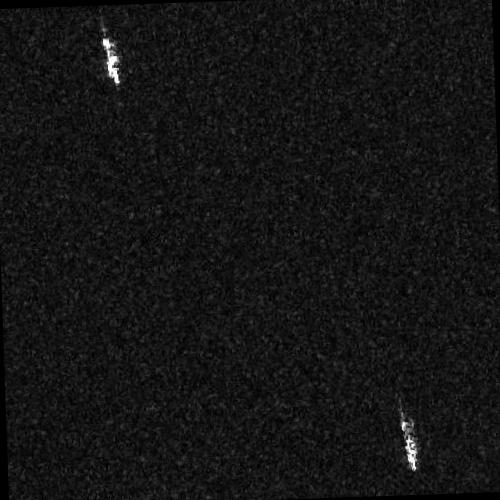ship: (99, 24, 121, 86), (399, 412, 418, 473)
